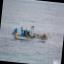fishing boat: (10, 20, 54, 45)
